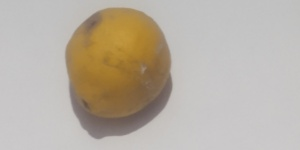BAD: (65, 4, 172, 119)
